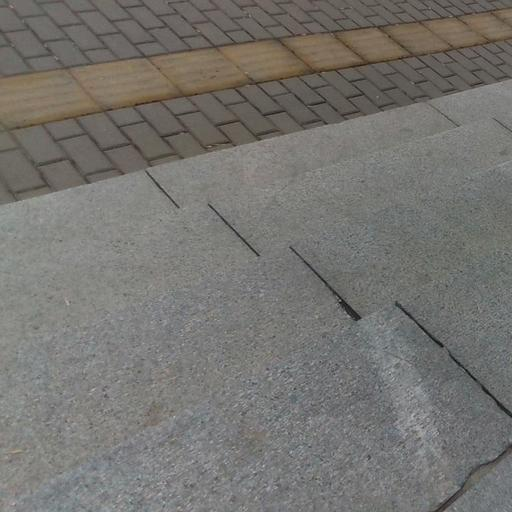stairs: (0, 83, 511, 511), (17, 308, 511, 511)
